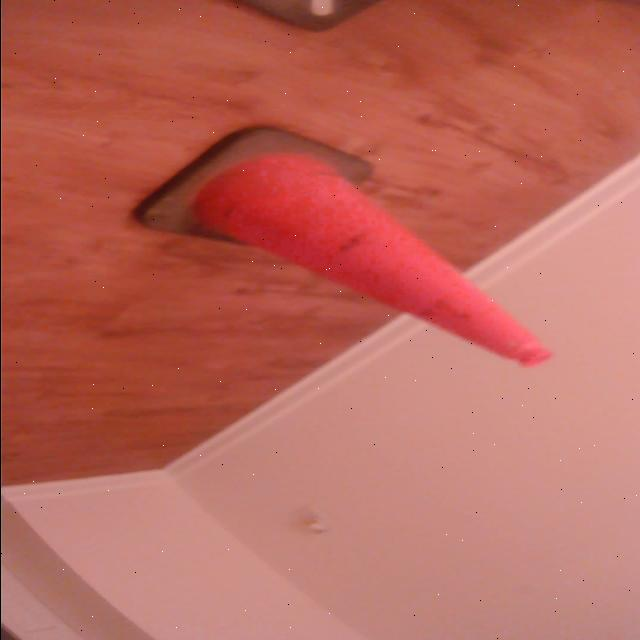traffic cone: (129, 124, 561, 374)
